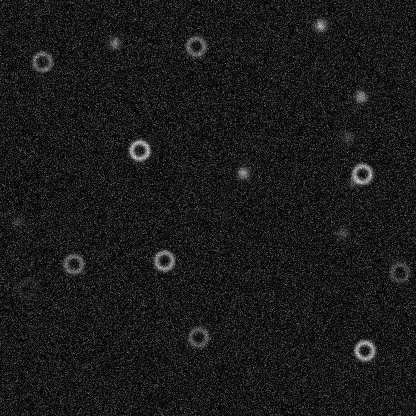Ring: (350, 161, 374, 185), (15, 275, 39, 299), (387, 260, 411, 284), (127, 138, 151, 162), (152, 248, 176, 272), (186, 325, 210, 349), (61, 251, 85, 275), (30, 49, 54, 73), (183, 34, 207, 58), (352, 338, 376, 362)
Spot: (352, 88, 368, 104), (339, 128, 355, 144), (345, 175, 361, 191), (106, 35, 122, 51), (312, 17, 328, 33), (234, 164, 250, 180), (8, 213, 24, 229), (334, 224, 350, 240)
